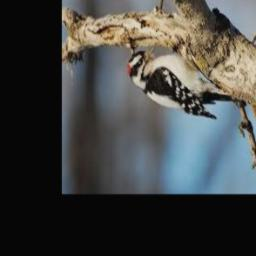Woodpecker: (128, 44, 239, 119)
